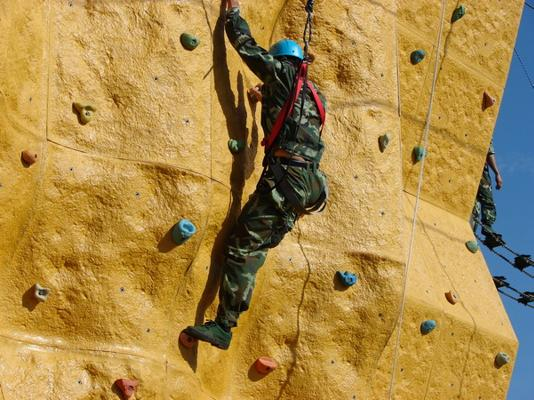person: (186, 2, 327, 352)
